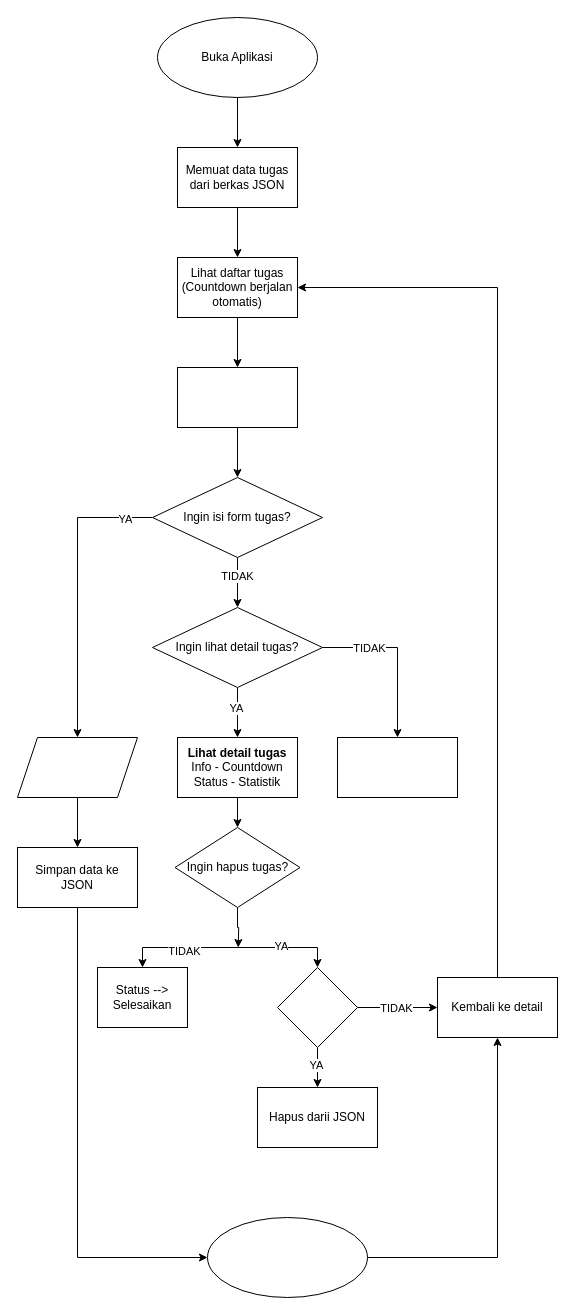
Image size: 575x1315. Some labels were removed from this diagram. The shapes that lost their labels are listed below. From the top down, each one's centre as x and y in pixels, then its label:
(237,397): Filter tugas (opsional)
(77,767): Isi from tugas Nama - Matkul Deadline - Jenis
(397,767): Panel statistik
(317,1007): Konfirmasi hapus?
(287,1257): Tampilan diperbarui otomatis
